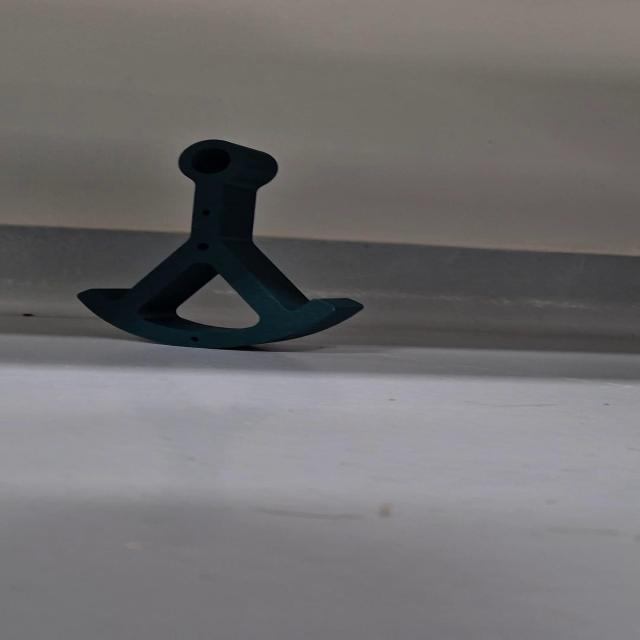haptic: (74, 138, 368, 350)
